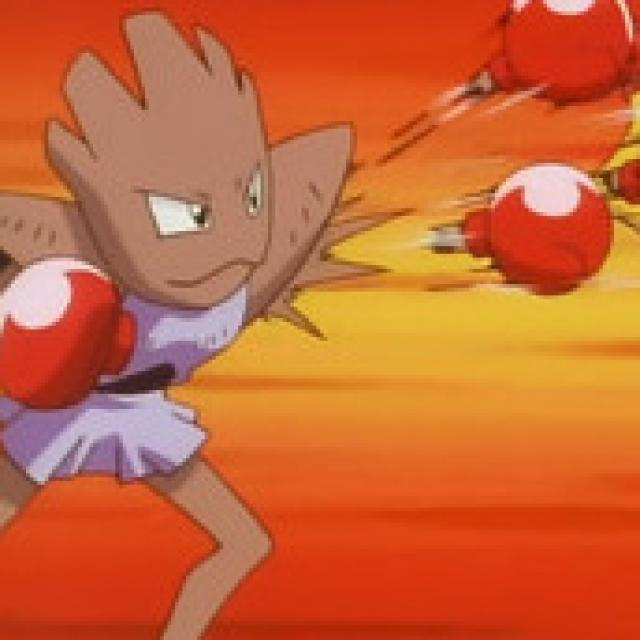Hitmonchan: (0, 15, 378, 640)
